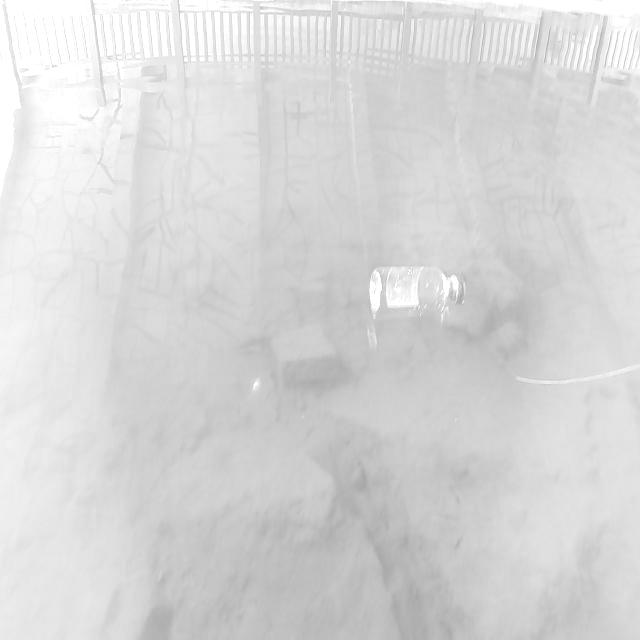bottle: (355, 244, 483, 340)
